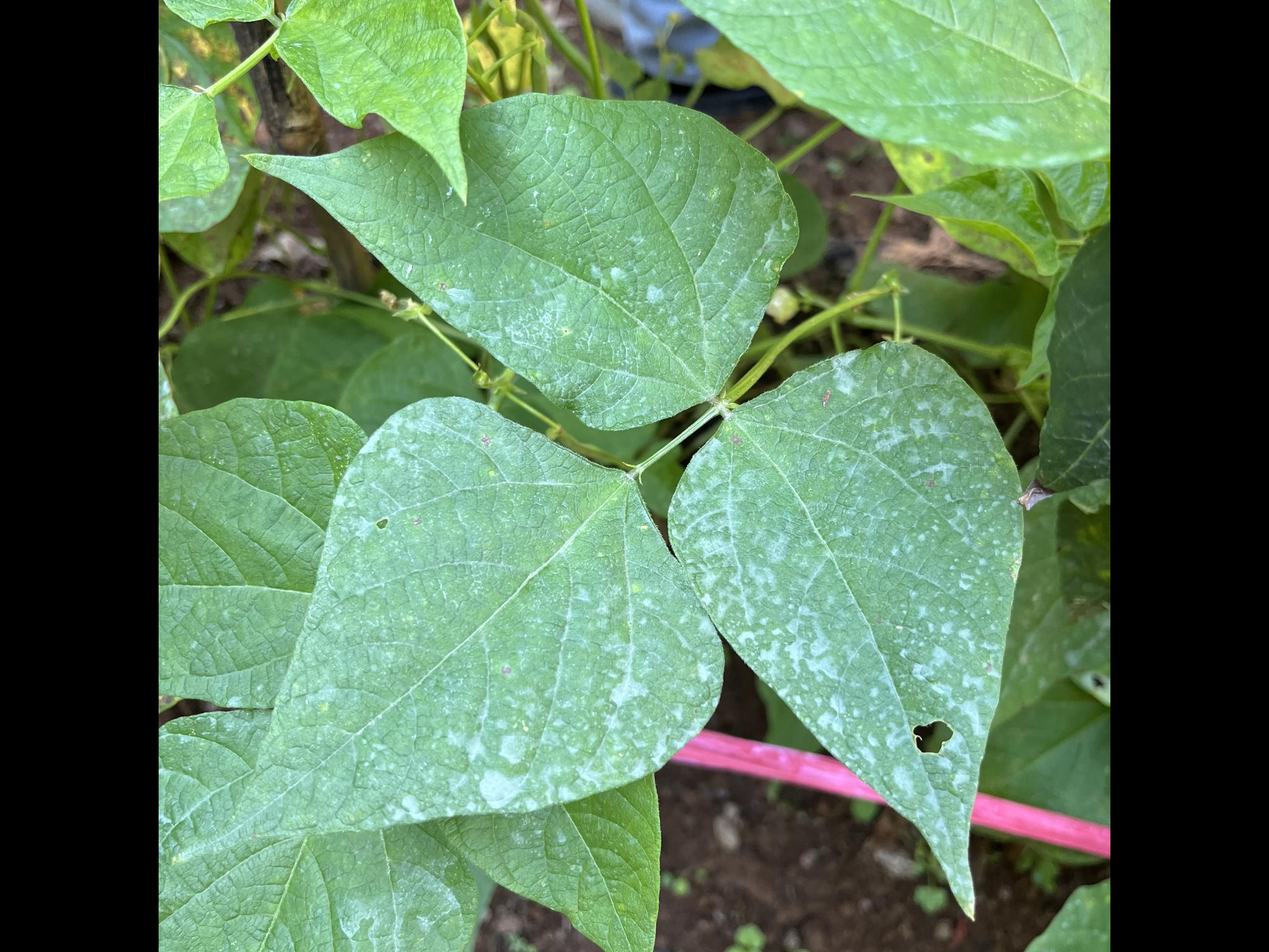embun tepung: (227, 402, 725, 849)
mozaik: (912, 713, 947, 756)
